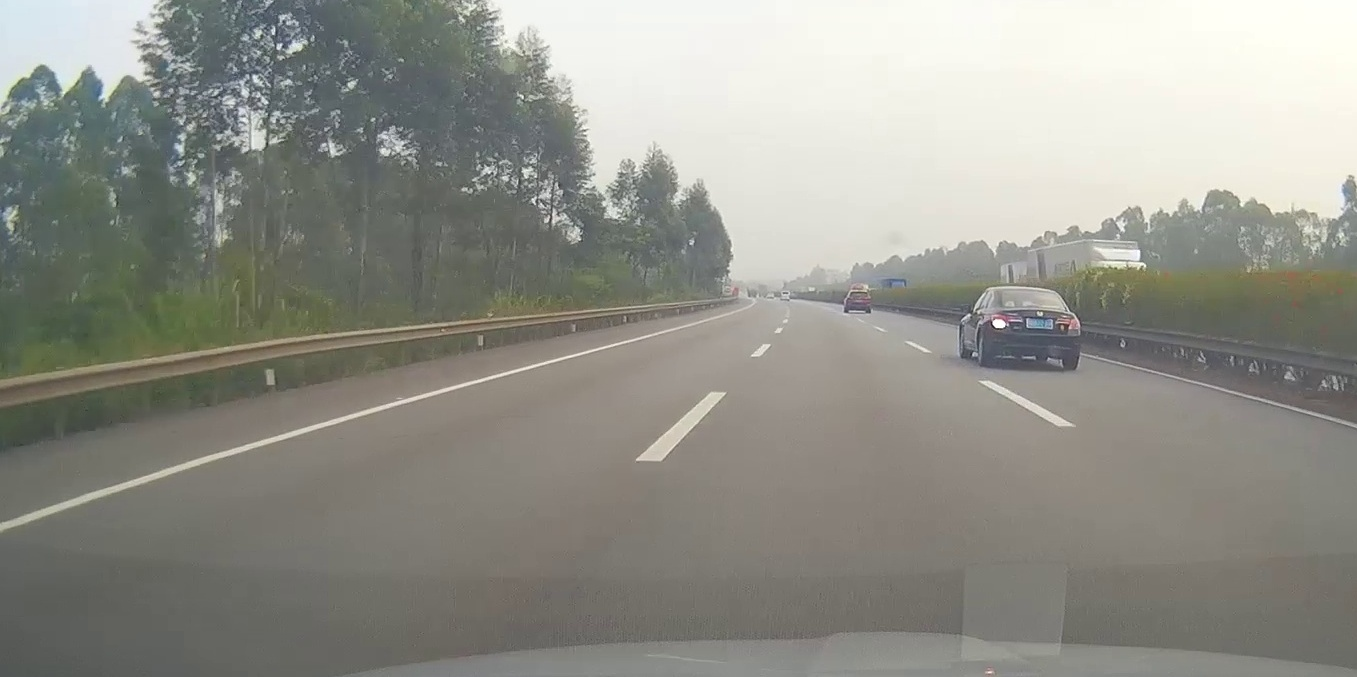L_light: (990, 313, 1022, 328)
R_light: (1055, 316, 1080, 331)
T_light: (1023, 289, 1037, 293)
day-left: (984, 287, 1081, 370)
